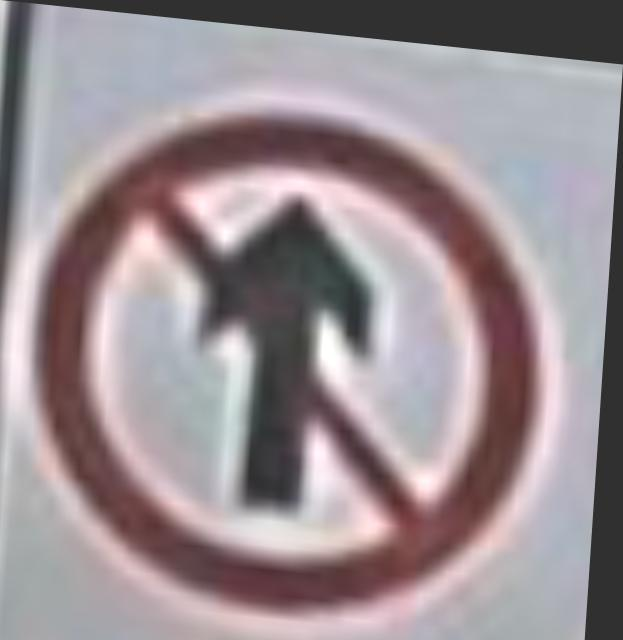not_go_straight: (35, 62, 573, 637)
